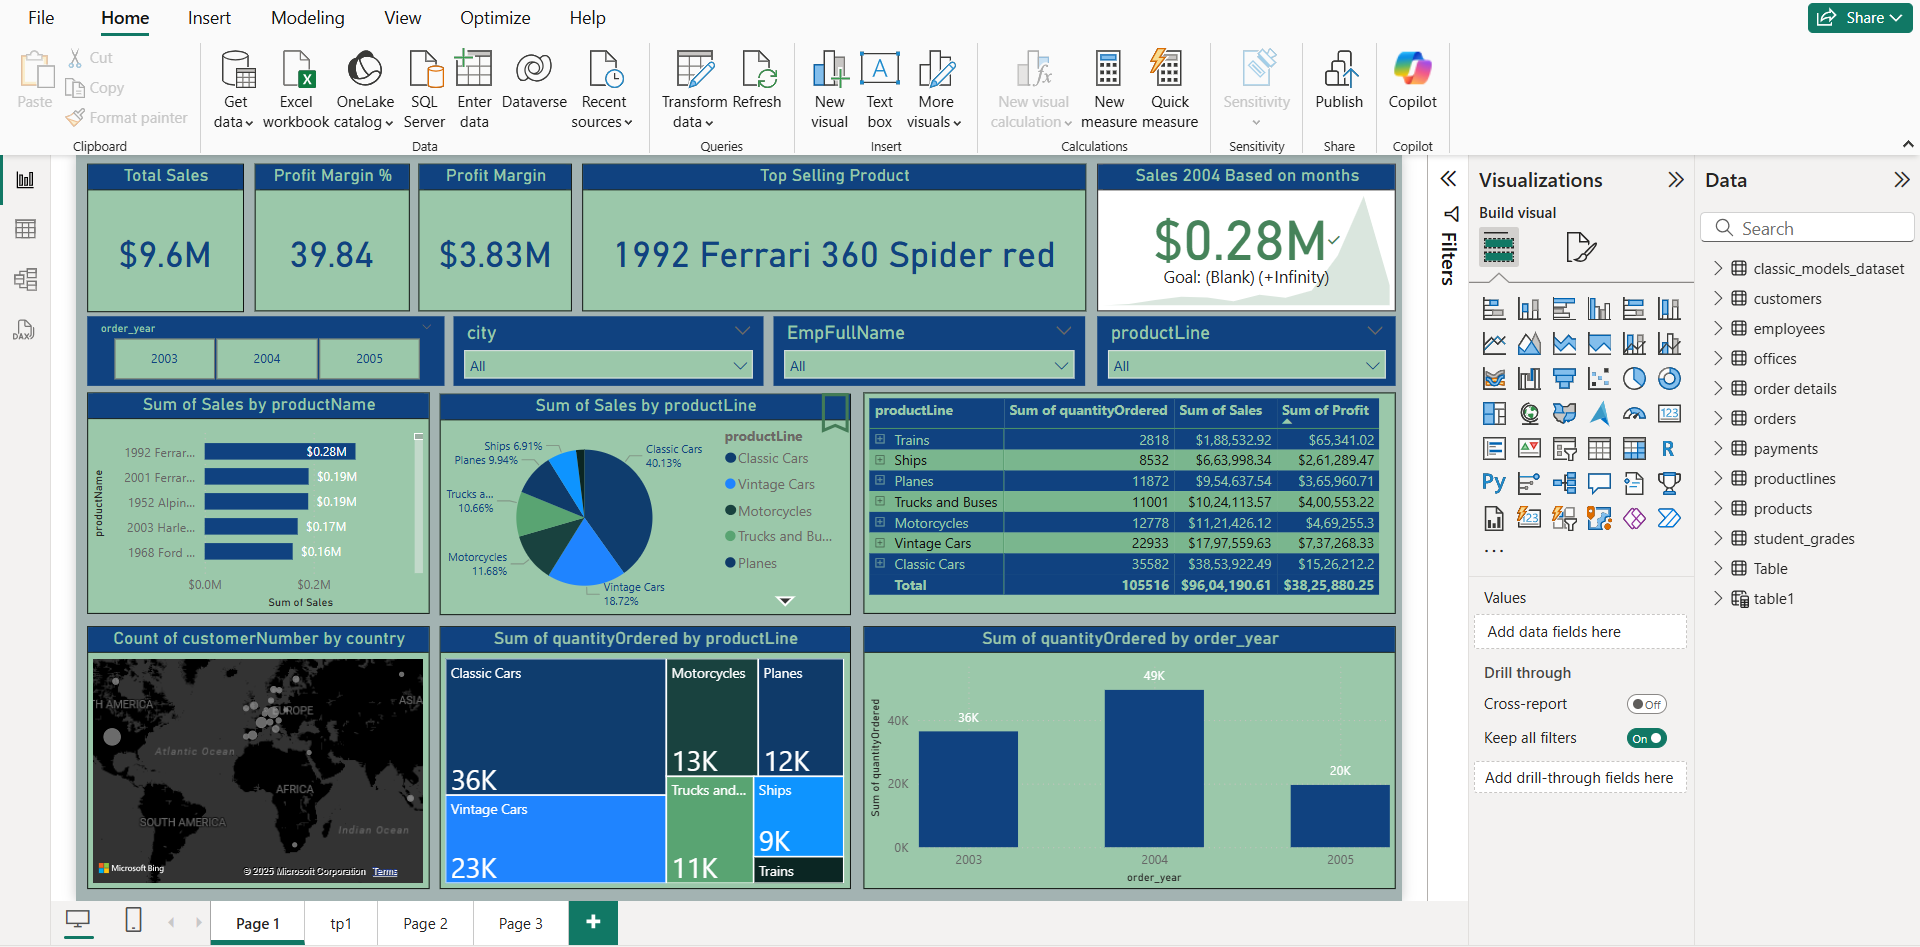

Layout of this report page (visuals, bound fields, positions):
{"tool":"powerbi","page":{"name":"Page 1","canvas":[1280,720],"ordinal":0},"visuals":[{"type":"card","title":"Profit Margin","fields":{"Values":["order details.total_profit"]},"box":[330.6,8.4,148.4,142.4],"z":0},{"type":"card","title":"Top Selling Product","fields":{"Values":["order details.MostOrderedProducts"]},"box":[488.6,8.4,486.2,142.4],"z":1000},{"type":"barChart","fields":{"Category":["products.productName"],"Y":["order details.Sales"]},"box":[10.9,229.2,330.6,213.5],"z":2000},{"type":"pieChart","fields":{"Y":["order details.Sales"],"Category":["productlines.productLine"]},"box":[351.1,230.4,396.9,213.5],"z":3000},{"type":"pivotTable","fields":{"Rows":["products.productLine","products.productName"],"Values":["order details.quantityOrdered","order details.Sales","order details.Profit"]},"box":[760.1,229.2,513.9,213.5],"z":4000},{"type":"slicer","fields":{"Values":["orders.order_year"]},"box":[10.9,155.6,345,67.6],"z":5000},{"type":"kpi","title":"Sales 2004 Based on months","fields":{"Goal":["orders.sales_2005"],"TrendLine":["orders.Month Name"],"Indicator":["orders.sales_2003"]},"box":[985.7,8.4,288.3,142.4],"z":6000},{"type":"map","fields":{"Size":["customers.customerNumber"],"Category":["customers.country"]},"box":[10.9,454.8,330.6,253.4],"z":7000},{"type":"treemap","fields":{"Group":["productlines.productLine"],"Values":["order details.quantityOrdered"]},"box":[351.1,454.8,396.9,253.4],"z":8000},{"type":"clusteredColumnChart","fields":{"Y":["order details.quantityOrdered"],"Category":["orders.order_year"]},"box":[760.1,454.8,513.9,253.4],"z":9000},{"type":"card","title":"Profit Margin %","fields":{"Values":["classic_models_dataset.Profit_Margin_%"]},"box":[172.5,8.4,149.6,142.4],"z":10000},{"type":"card","title":"Total Sales","fields":{"Values":["order details.Sales"]},"box":[10.9,8.4,150.8,143.6],"z":11000},{"type":"slicer","fields":{"Values":["offices.city"]},"box":[364.3,155.6,299.2,67.6],"z":12000},{"type":"slicer","fields":{"Values":["employees.EmpFullName"]},"box":[673.2,155.6,300.4,67.6],"z":13000},{"type":"slicer","fields":{"Values":["productlines.productLine"]},"box":[985.7,155.6,288.3,67.6],"z":14000},{"type":"actionButton","box":[708.2,223.2,49.5,50.7],"z":15000}]}

Visuals, with their boxes on the page's 1280x720 design canvas (x1, y1, x2, y2). These are canvas units, not pixel positions in the 1920x947 screenshot, which may show the page scaled, cropped or inside an application window:
"Profit Margin" card: <region>331, 8, 479, 151</region>
"Top Selling Product" card: <region>489, 8, 975, 151</region>
barChart - products.productName x order details.Sales: <region>11, 229, 342, 443</region>
pieChart - order details.Sales x productlines.productLine: <region>351, 230, 748, 444</region>
pivotTable - products.productLine x products.productName: <region>760, 229, 1274, 443</region>
slicer - orders.order_year: <region>11, 156, 356, 223</region>
"Sales 2004 Based on months" kpi: <region>986, 8, 1274, 151</region>
map - customers.customerNumber x customers.country: <region>11, 455, 342, 708</region>
treemap - productlines.productLine x order details.quantityOrdered: <region>351, 455, 748, 708</region>
clusteredColumnChart - order details.quantityOrdered x orders.order_year: <region>760, 455, 1274, 708</region>
"Profit Margin %" card: <region>172, 8, 322, 151</region>
"Total Sales" card: <region>11, 8, 162, 152</region>
slicer - offices.city: <region>364, 156, 664, 223</region>
slicer - employees.EmpFullName: <region>673, 156, 974, 223</region>
slicer - productlines.productLine: <region>986, 156, 1274, 223</region>
actionButton: <region>708, 223, 758, 274</region>
